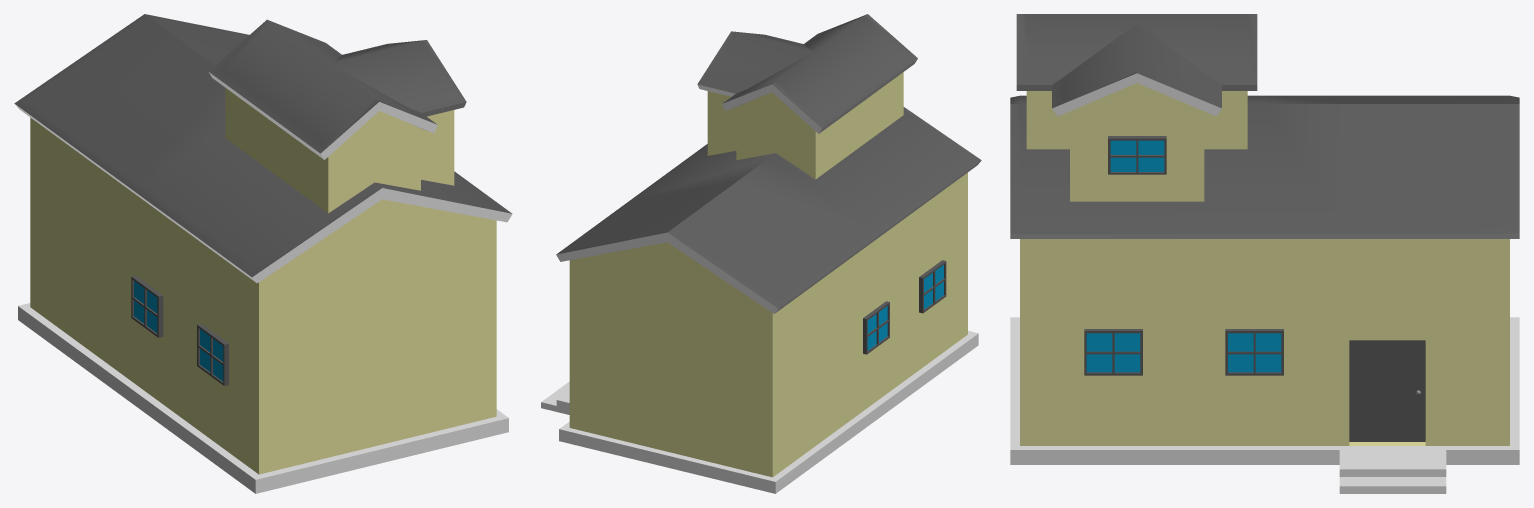
File: House1.fbx
3 renders of one model, left to right at view 1: azimuth 30°, elevation 25°; view 2: azimuth 150°, elevation 25°; view 3: azimuth 270°, elevation 25°, orthographic. The views are drawn at different scales.
Visible parts, largest first — view 1: House1; view 2: House1; view 3: House1.
Boxes of the visible parts, bbox=[...] form: House1: bbox=[14, 14, 512, 493]; House1: bbox=[541, 14, 981, 493]; House1: bbox=[1010, 14, 1519, 493].
Bounding box in the file's own units: 0.3944 × 0.4333 × 0.52.
